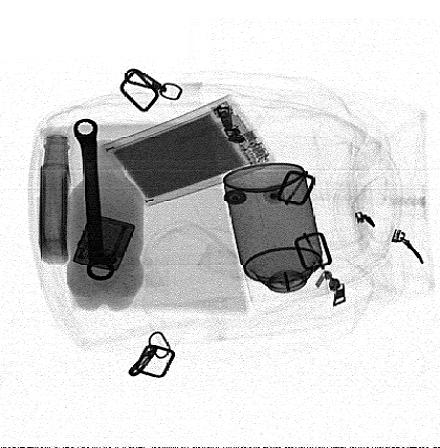Lighter: (73, 213, 137, 273)
Powerbank: (102, 92, 276, 208)
Sprayer: (221, 163, 331, 315)
